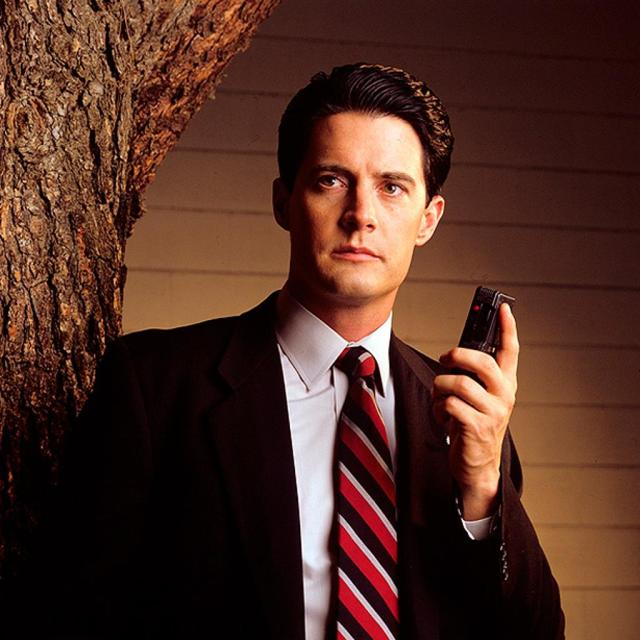Face: (310, 108, 437, 306)
